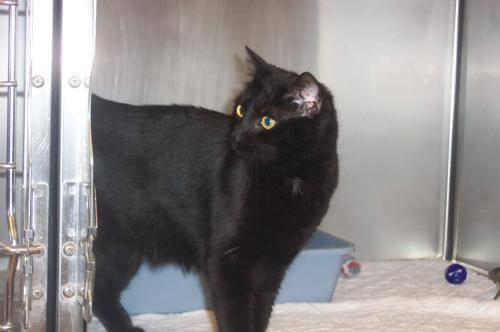cat: (92, 47, 338, 331)
